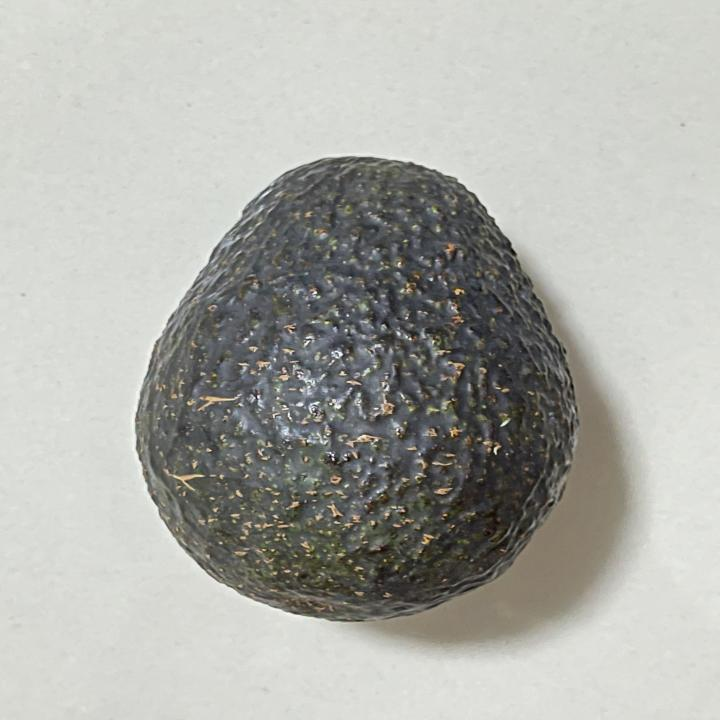Level1: (112, 144, 596, 634)
